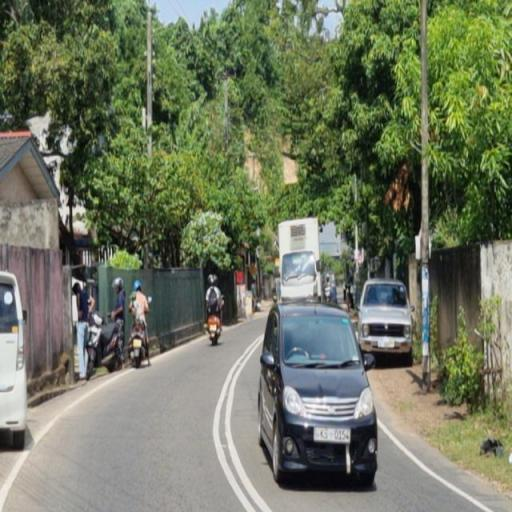double_white_line: (213, 333, 265, 512)
